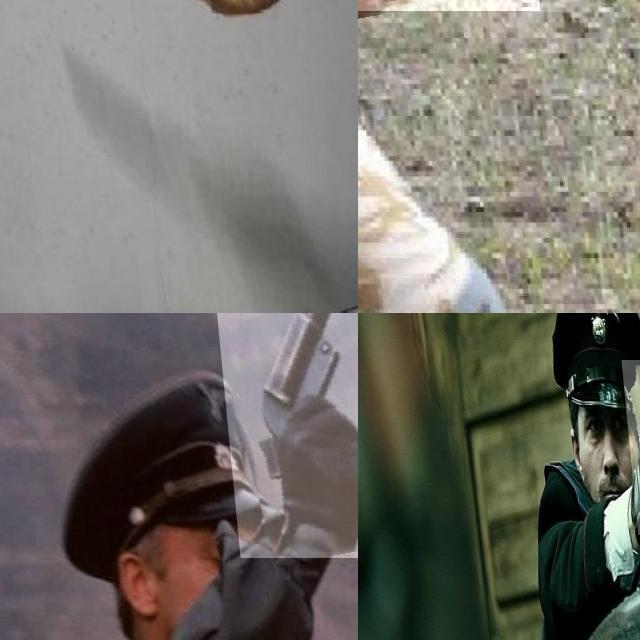-: (12, 0, 233, 59), (358, 0, 533, 64)
gun-knife-thesis - v11 Yolov5 augmented: (215, 313, 358, 558), (619, 359, 640, 535)
